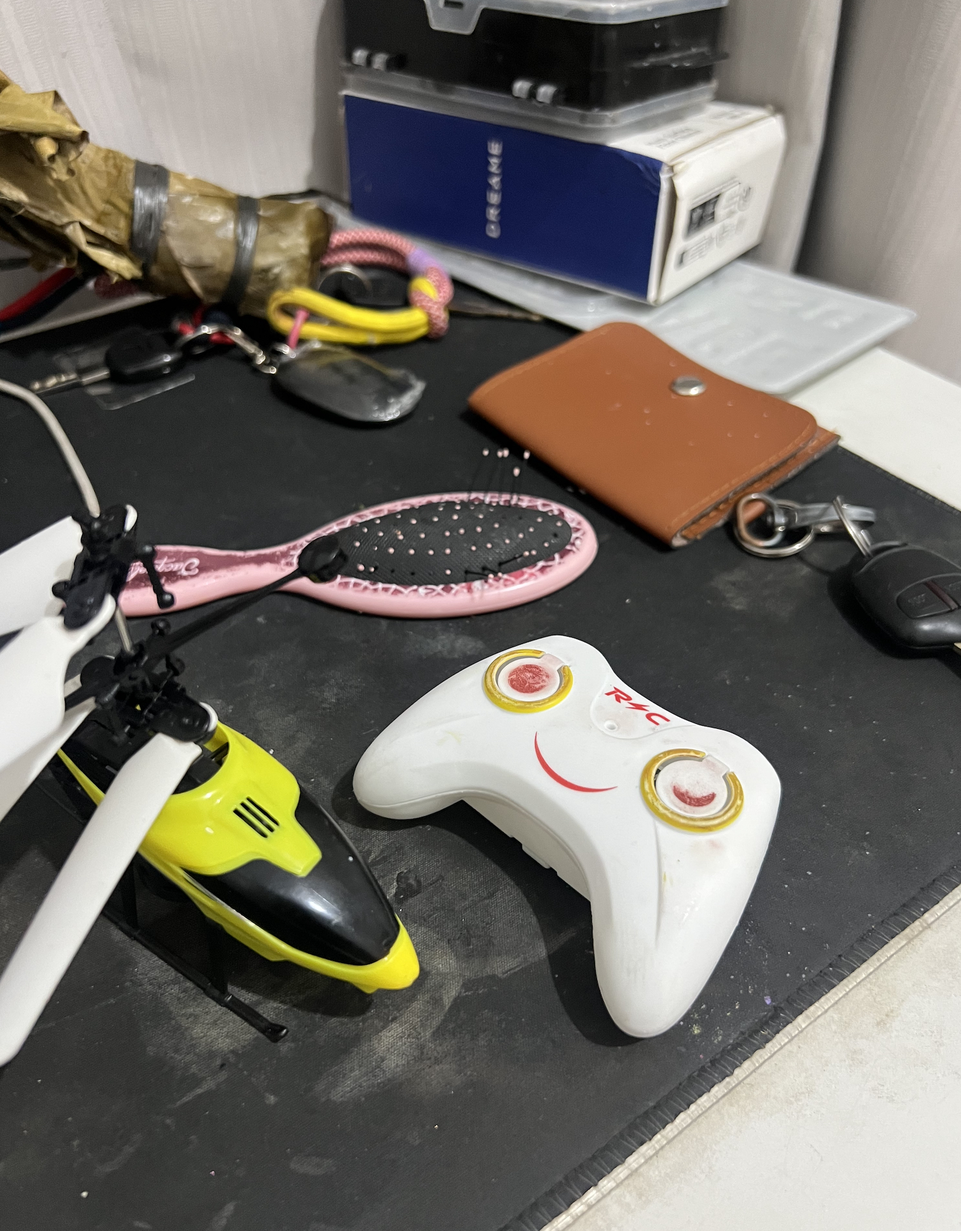gamepad: (332, 572, 779, 1069)
helikopter: (0, 523, 459, 1128)
jungkat: (91, 439, 630, 634)
kunci: (823, 479, 961, 747)
